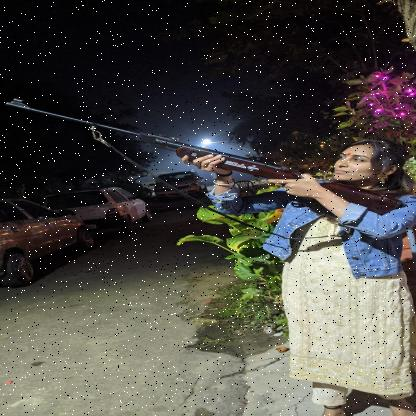rifle: (2, 97, 406, 217)
